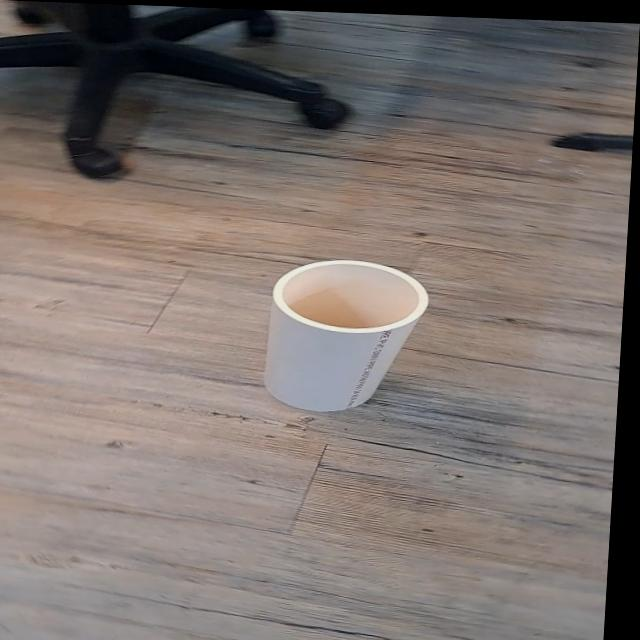CORAL: (249, 248, 449, 425)
